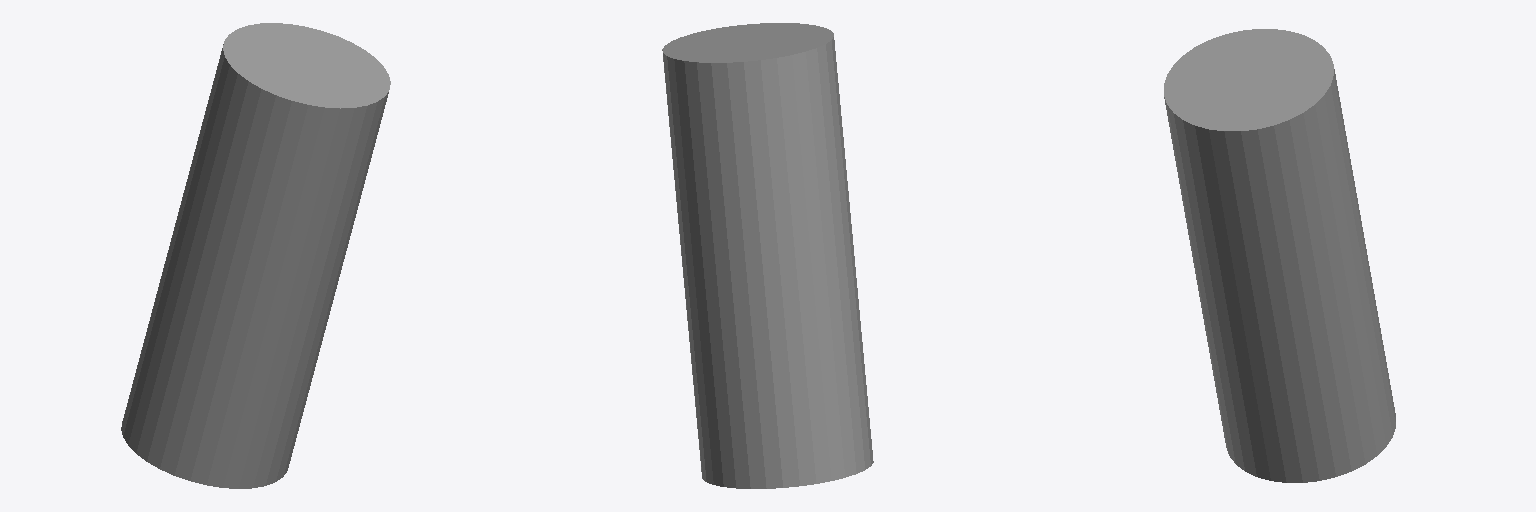
Rendered from score_item_2.obj.
3 views of the same model, side by side, from view 1: azimuth 30°, elevation 25°; view 2: azimuth 150°, elevation 25°; view 3: azimuth 270°, elevation 25° (orthographic).
Bounding box in the file's own units: 0.0466 × 0.0866 × 0.0432.